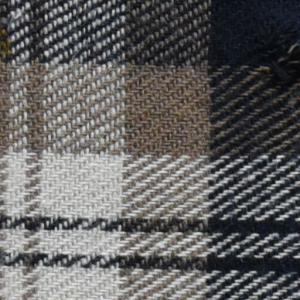Damage: (262, 21, 300, 102)
Stain: (1, 22, 18, 68)
